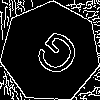G: (25, 27, 84, 88)
